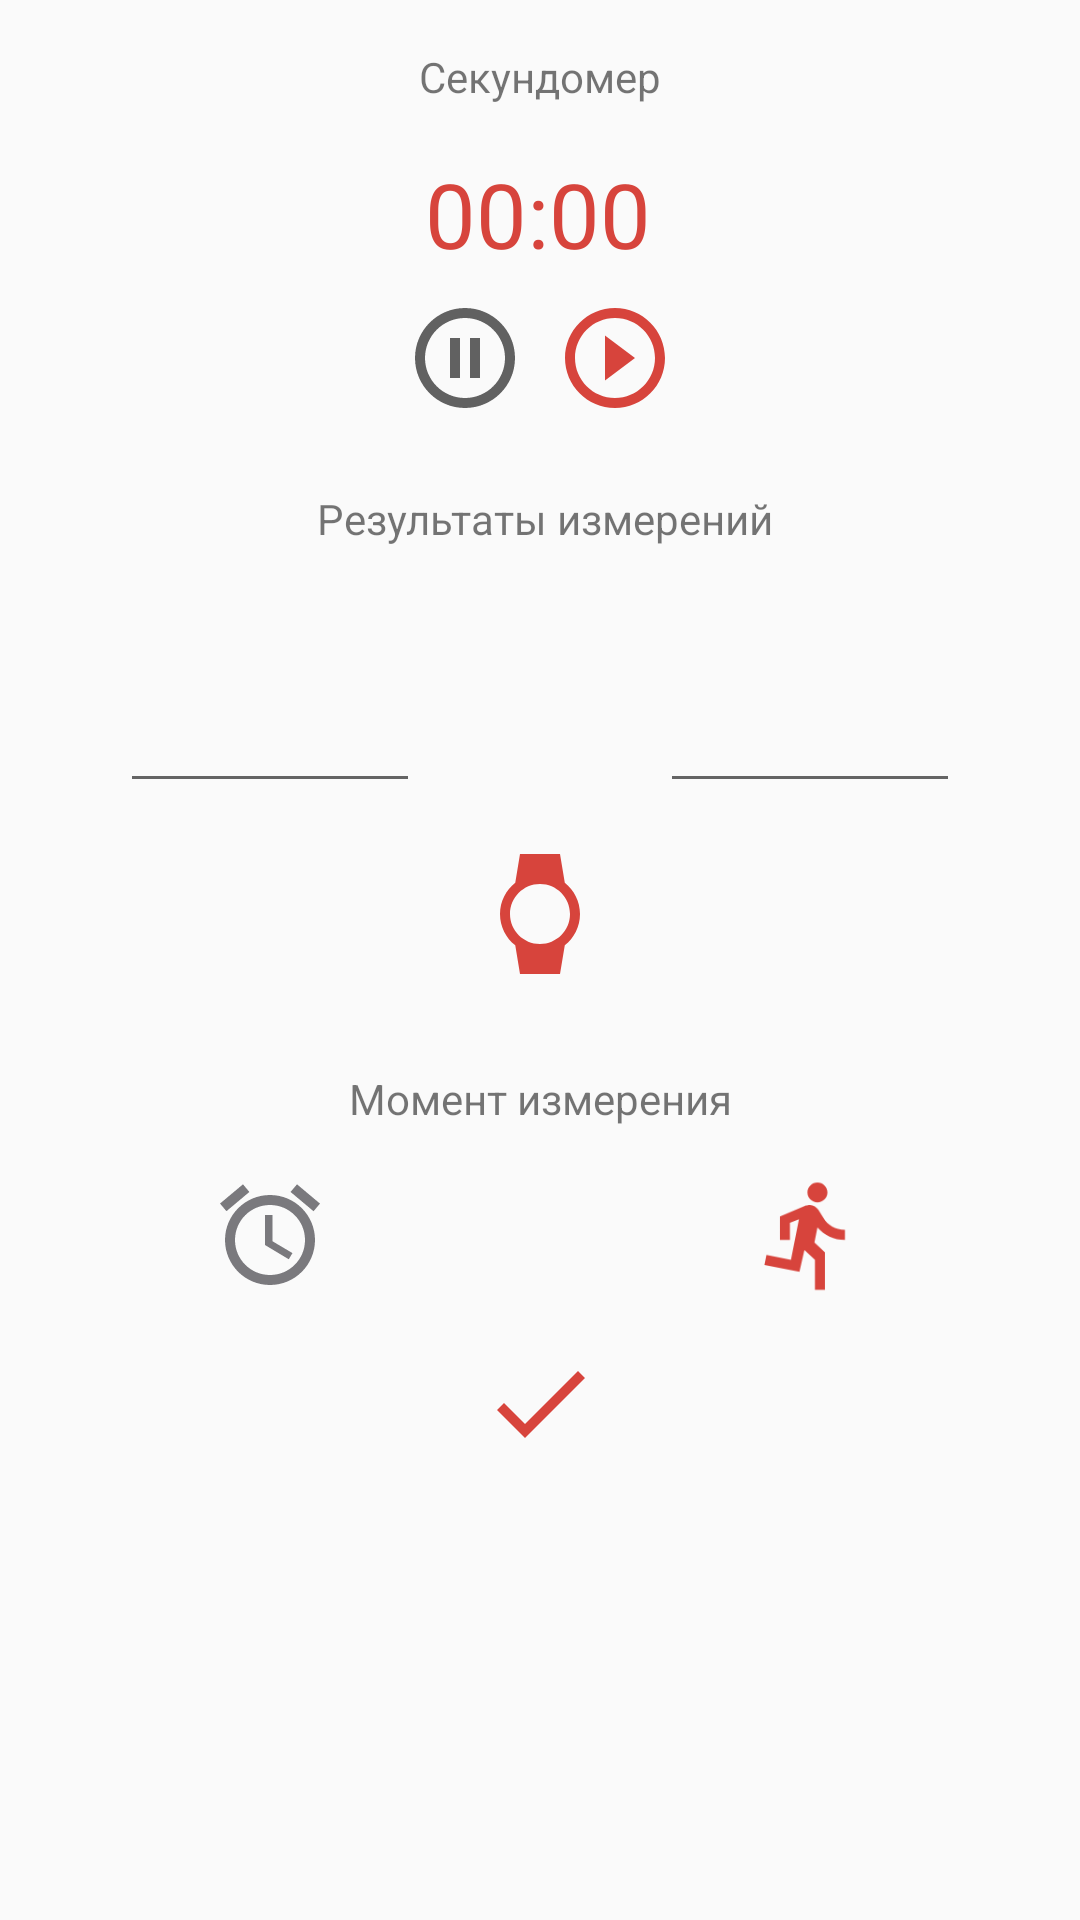

Icon bounding boxes for this 1080 x 1920 phone screenshot, format (x1, y1, x2, y2):
alarm: (220, 1184, 320, 1285)
done: (497, 1371, 585, 1438)
pause: (415, 308, 515, 408)
play: (565, 308, 665, 408)
training: (764, 1182, 846, 1291)
watch: (500, 854, 580, 974)
